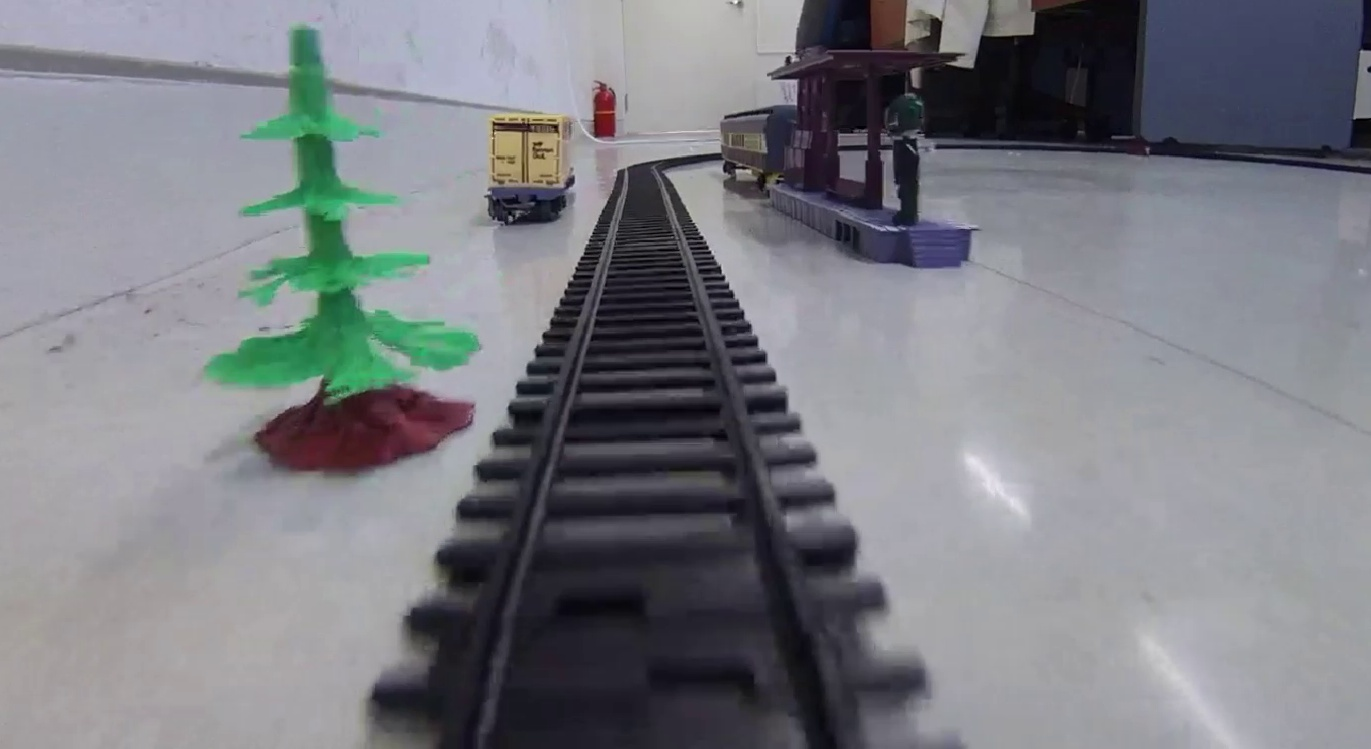people: (884, 92, 929, 227)
tree: (197, 24, 480, 478)
